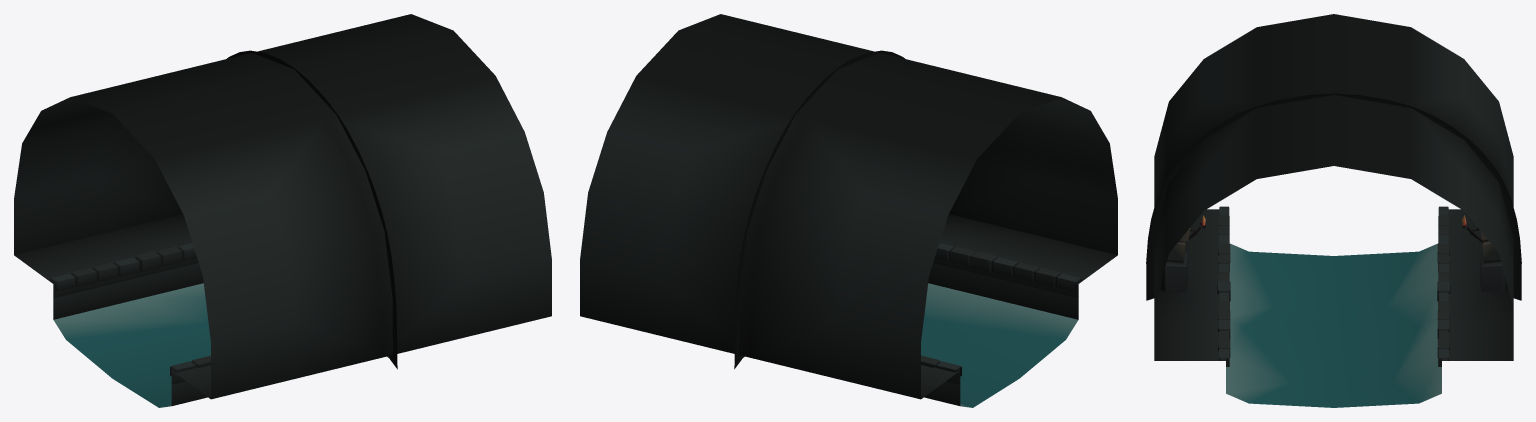
Rendered from wallsLvl2.fbx.
3 renders of one model, left to right at view 1: azimuth 30°, elevation 25°; view 2: azimuth 150°, elevation 25°; view 3: azimuth 270°, elevation 25°, orthographic. The views are drawn at different scales.
Parts seen in each view (by area): view 1: wallLvl2; view 2: wallLvl2; view 3: wallLvl2.
Part boxes in pixels (x1=…): wallLvl2: x1=14, y1=14, x2=551, y2=407; wallLvl2: x1=580, y1=14, x2=1117, y2=407; wallLvl2: x1=1146, y1=14, x2=1521, y2=407.
Bounding box in the file's own units: 5000 × 3735 × 5224.
